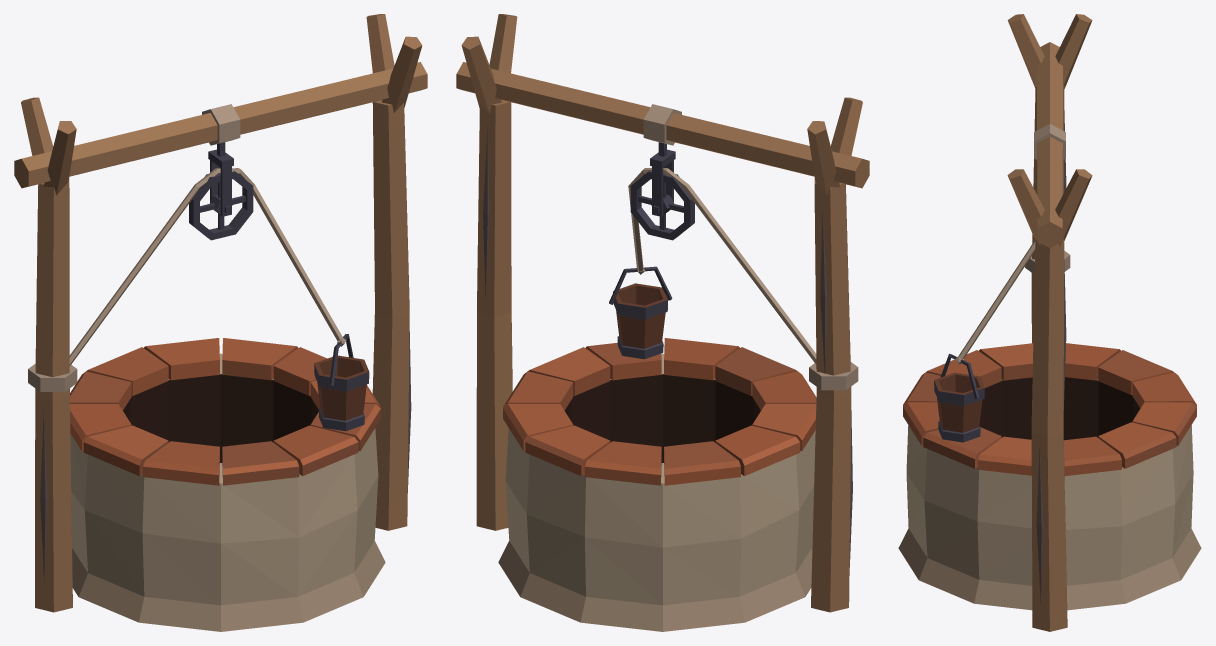
The model's file is country-well-8feec8.glb.
The picture shows the model from 3 angles, left to right: view 1: azimuth 30°, elevation 25°; view 2: azimuth 150°, elevation 25°; view 3: azimuth 270°, elevation 25°; orthographic projection. The views are drawn at different scales.
Parts seen in each view (by area): view 1: object 1, object 3, pulley; view 2: object 1, object 3, pulley; view 3: object 1, object 3.
Boxes of the visible parts, box(x1,y1,x2,y2) form: object 1: box(14, 14, 427, 631); object 3: box(314, 334, 369, 431); pulley: box(189, 171, 253, 240); object 1: box(456, 14, 869, 631); object 3: box(609, 266, 672, 359); pulley: box(630, 171, 694, 240); object 1: box(898, 14, 1201, 631); object 3: box(934, 353, 984, 442).
Bounding box in the file's own units: 2.1 × 2.49 × 1.5.
